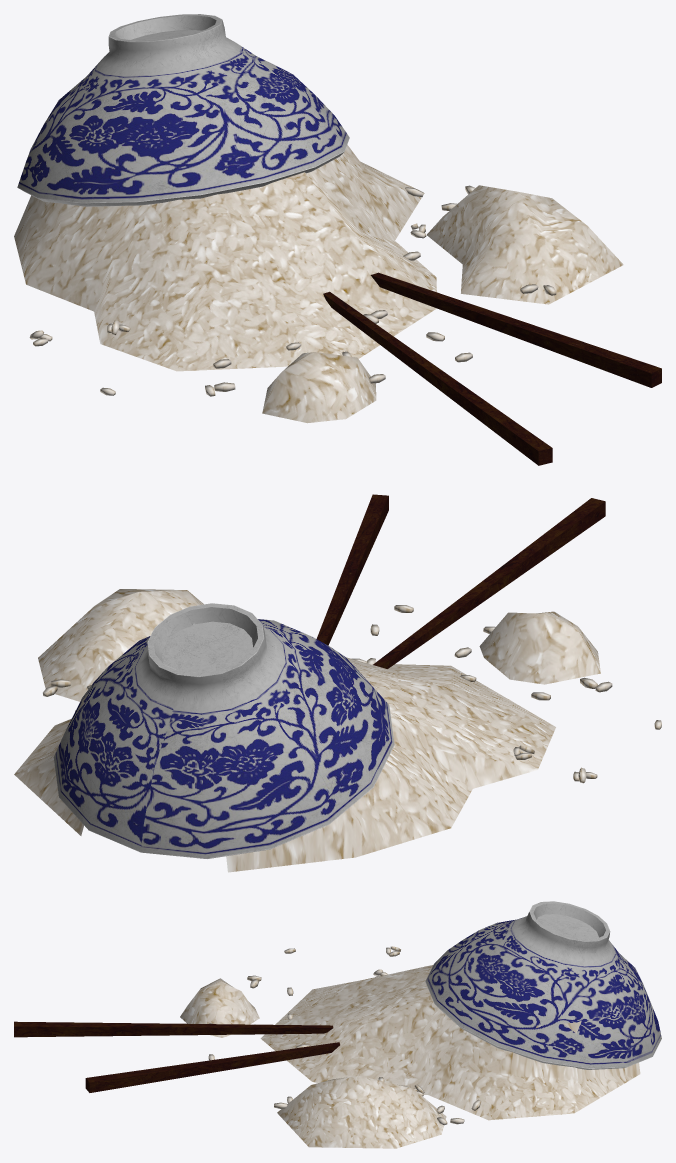
Rendered from rice_funeral_offerings_spill.FBX.
3 renders of one model, top to bottom at view 1: azimuth 30°, elevation 25°; view 2: azimuth 150°, elevation 25°; view 3: azimuth 270°, elevation 25°, orthographic. The views are drawn at different scales.
Parts seen in each view (by area): view 1: Teapot001; view 2: Teapot001; view 3: Teapot001.
Part boxes in pixels (bbox=[...]): Teapot001: bbox=[14, 14, 661, 465]; Teapot001: bbox=[14, 494, 661, 872]; Teapot001: bbox=[14, 901, 661, 1148].
Size of the model in its own units: 0.3093 by 0.4418 by 0.1026.
Materials: 1 (1 with a texture image).
